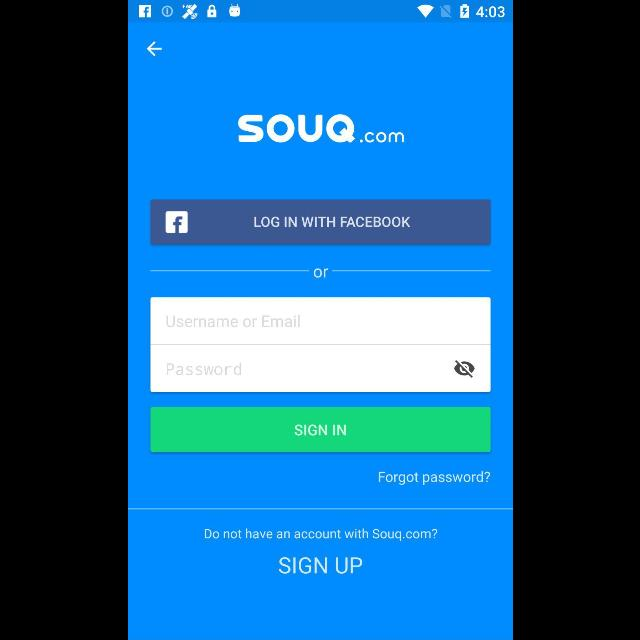icon: (454, 360, 474, 378), (146, 42, 162, 56)
image: (237, 115, 403, 143)
input: (150, 344, 490, 392), (150, 297, 490, 345)
text: (204, 528, 436, 542), (166, 314, 300, 328), (378, 471, 490, 485), (278, 556, 362, 574), (166, 362, 242, 376), (312, 268, 328, 278)
textbutton: (150, 408, 490, 452), (150, 200, 490, 244)
uppertaskbar: (128, 1, 512, 23)
